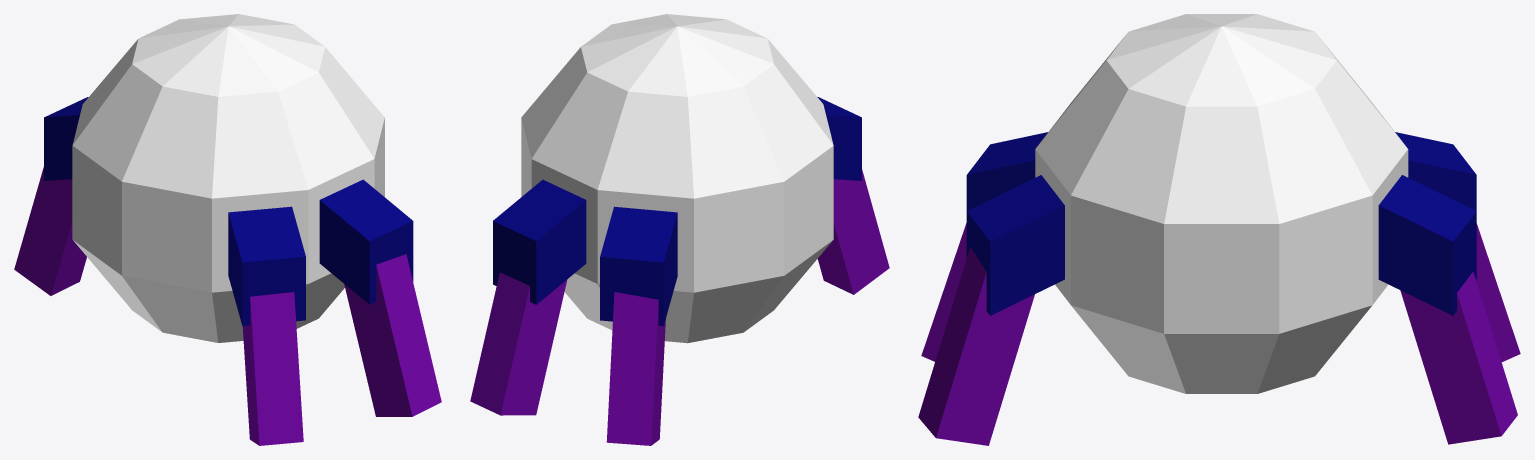
The model's file is SnakeBody.FBX.
3 views of the same model, side by side, from view 1: azimuth 30°, elevation 25°; view 2: azimuth 150°, elevation 25°; view 3: azimuth 270°, elevation 25° (orthographic). The views are drawn at different scales.
Parts seen in each view (by area): view 1: SnakeBody, Leg2, Leg1, Leg4; view 2: SnakeBody, Leg3, Leg4, Leg1; view 3: SnakeBody, Leg2, Leg3, Leg4, Leg1.
Boxes of the visible parts, x1,y1,x2,y2 form: SnakeBody: (44, 14, 413, 342); Leg2: (344, 254, 441, 416); Leg1: (242, 292, 303, 445); Leg4: (14, 167, 86, 295); SnakeBody: (493, 14, 861, 343); Leg3: (470, 272, 566, 415); Leg4: (606, 292, 665, 445); Leg1: (817, 169, 889, 294); SnakeBody: (966, 14, 1476, 393); Leg2: (918, 247, 1034, 445); Leg3: (1400, 271, 1517, 444); Leg4: (1476, 223, 1520, 361); Leg1: (921, 223, 966, 361).
Bounding box in the file's own units: 0.9045 × 1.06 × 1.54.
